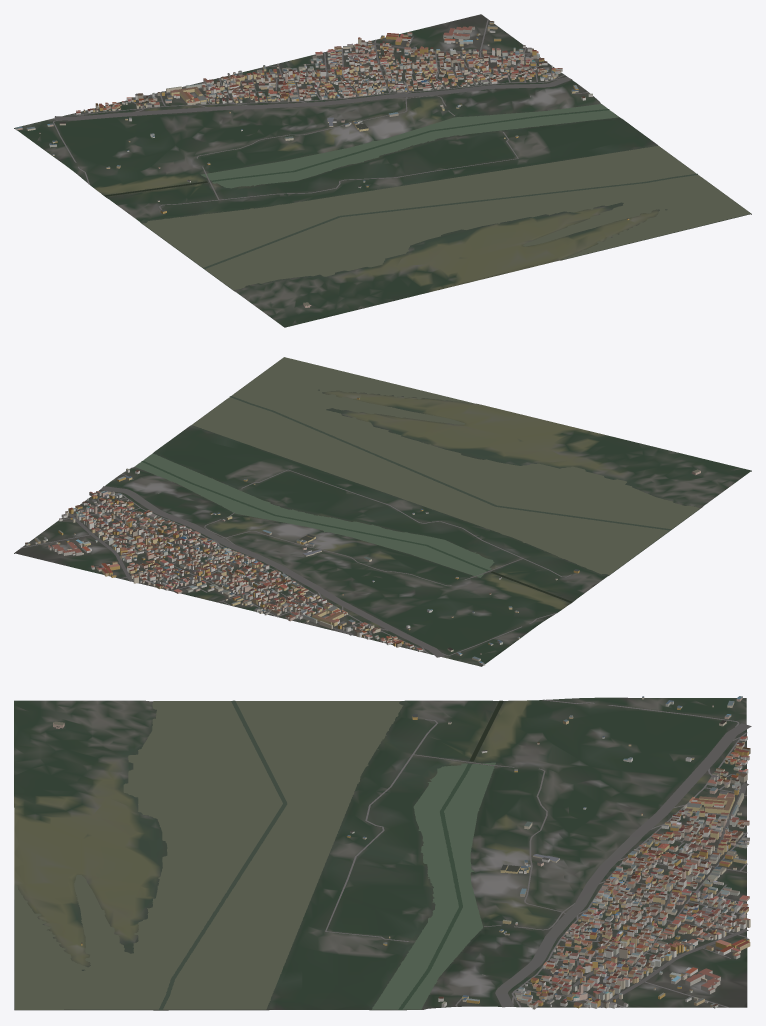
3 views of the same model, one above another, from view 1: azimuth 30°, elevation 25°; view 2: azimuth 150°, elevation 25°; view 3: azimuth 270°, elevation 25° (orthographic). The views are drawn at different scales.
Parts seen in each view (by area): view 1: ground, water, buildings, roads; view 2: ground, water, buildings, roads; view 3: ground, water, buildings, roads.
Boxes of the visible parts, x1=… form: ground: x1=14, y1=14, x2=751, y2=327; water: x1=104, y1=104, x2=750, y2=290; buildings: x1=15, y1=21, x2=629, y2=307; roads: x1=53, y1=19, x2=588, y2=209; ground: x1=14, y1=360, x2=751, y2=666; water: x1=135, y1=357, x2=699, y2=602; buildings: x1=25, y1=397, x2=700, y2=665; roads: x1=21, y1=469, x2=571, y2=657; ground: x1=14, y1=697, x2=747, y2=1010; water: x1=14, y1=700, x2=503, y2=1010; buildings: x1=53, y1=696, x2=750, y2=1009; roads: x1=325, y1=699, x2=751, y2=1007.
Size of the model in its own units: 1410 by 30 by 1412.
